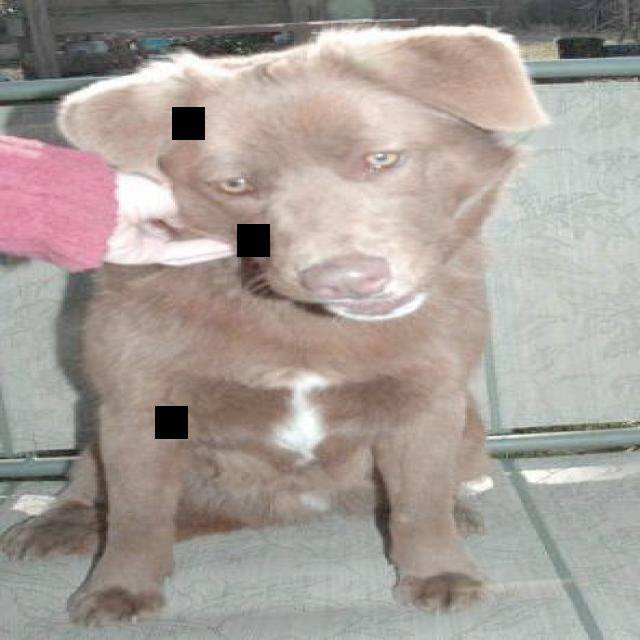puppy-dog: (1, 27, 552, 626)
